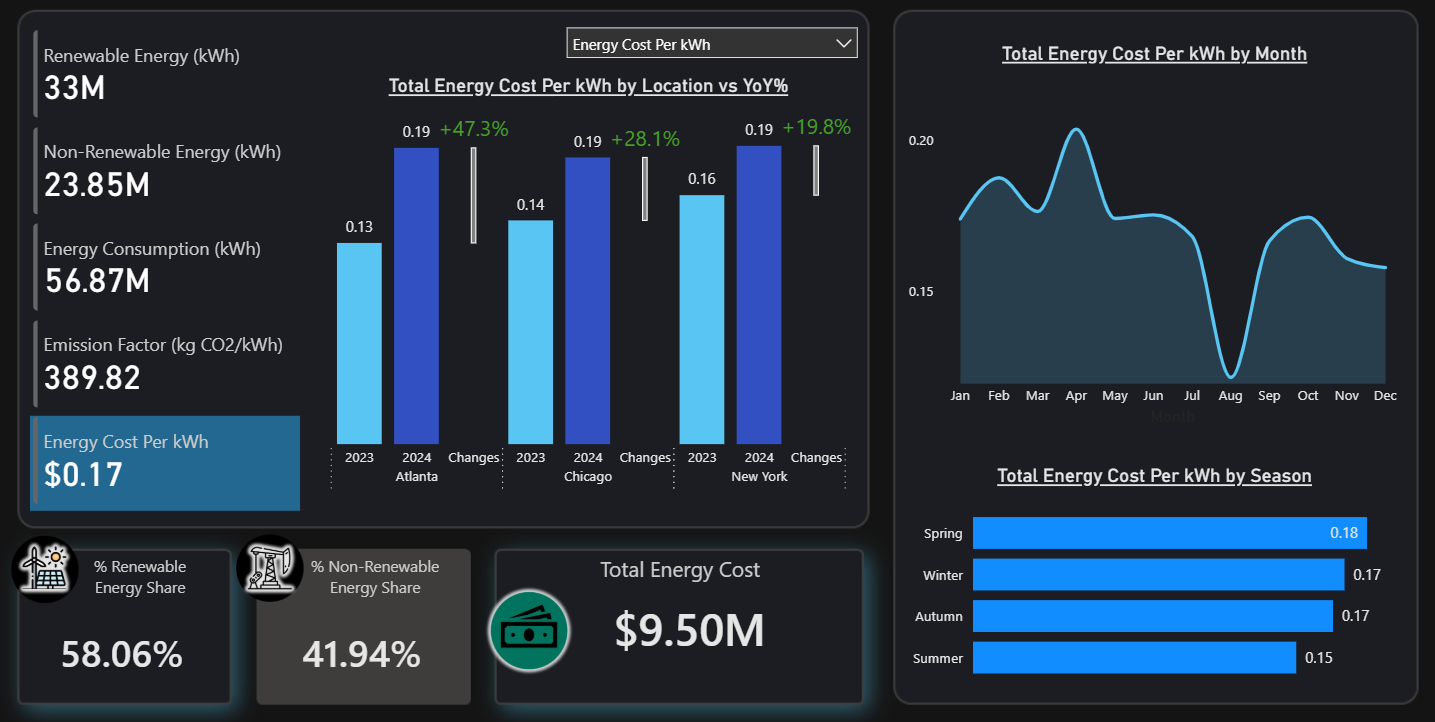

This screenshot's page, from the dashboard's own definition file:
{"tool":"powerbi","page":{"name":"Page 1","canvas":[1280,720],"ordinal":0},"visuals":[{"type":"shape","box":[26.9,97,240,85],"z":0},{"type":"shape","box":[27,184,240.5,84.7],"z":1000},{"type":"shape","box":[27,270.8,240.5,84.7],"z":2000},{"type":"shape","box":[27,357.5,240.5,84.7],"z":3000},{"type":"shape","box":[27,444.2,240.5,84.7],"z":4000},{"type":"cardVisual","fields":{"Data":["DAX Table.Renewable Energy (kwh)","DAX Table.Total Non-Renewable Energy (kwh)","DAX Table.Total Energy Consumption (kwh)","DAX Table.Emission Factor (kg CO2/kWh)","DAX Table.Energy Cost Per kWh"]},"box":[17.2,88.3,266.3,449.1],"z":5000},{"type":"clusteredColumnChart","fields":{"Category":["Data.Location","Year Table.Year"],"Y":["Year Table.YoY Change"]},"box":[274.8,139.9,498.2,380.4],"z":6000},{"type":"slicer","fields":{"Values":["Switchable Measures.Switchable Measures"]},"box":[494.5,88.3,279.8,46.6],"z":7000},{"type":"cardVisual","fields":{"Data":["DAX Table.% Renewable Energy Share"]},"box":[27.3,612.7,164.5,82.7],"z":8000},{"type":"textbox","box":[57.7,563.2,133.7,49.1],"z":9000},{"type":"textbox","box":[267.5,563.2,133.7,49.1],"z":10000},{"type":"textbox","box":[484.7,563.2,242.9,45.4],"z":11000},{"type":"cardVisual","fields":{"Data":["DAX Table.Energy Cost (USD)"]},"box":[492,591.4,244.2,82.2],"z":12000},{"type":"cardVisual","fields":{"Data":["DAX Table.% Non-Renewable Energy Share"]},"box":[240.9,612.7,164.5,82.7],"z":13000},{"type":"image","box":[10,550.9,60,60],"z":14000},{"type":"image","box":[210,550,60,60],"z":15000},{"type":"image","box":[430.9,595,80.9,80],"z":16000},{"type":"lineChart","fields":{"Category":["Calendar.Month"],"Y":["Switchable Measures.Group Measures"]},"box":[803.7,111.7,449.1,347.2],"z":17000},{"type":"barChart","fields":{"Category":["Calendar.Season"],"Y":["Switchable Measures.Group Measures"]},"box":[803.7,487.1,449.1,207.4],"z":18000},{"type":"textbox","box":[17.2,12.3,474.8,66.3],"z":19000},{"type":"card","fields":{"Values":["DAX Table.Energy Cost Summary"]},"box":[575.5,12.3,677.3,62.6],"z":21000}]}

Visuals, with their boxes on the page's 1280x720 design canvas (x1, y1, x2, y2). These are canvas units, not pixel positions in the 1435x722 screenshot, which may show the page scaled, cropped or inside an application window:
shape: select_region(27, 97, 267, 182)
shape: select_region(27, 184, 268, 269)
shape: select_region(27, 271, 268, 356)
shape: select_region(27, 358, 268, 442)
shape: select_region(27, 444, 268, 529)
cardVisual - DAX Table.Renewable Energy (kwh) x DAX Table.Total Non-Renewable Energy (kwh): select_region(17, 88, 284, 537)
clusteredColumnChart - Data.Location x Year Table.Year: select_region(275, 140, 773, 520)
slicer - Switchable Measures.Switchable Measures: select_region(494, 88, 774, 135)
cardVisual - DAX Table.% Renewable Energy Share: select_region(27, 613, 192, 695)
textbox: select_region(58, 563, 191, 612)
textbox: select_region(268, 563, 401, 612)
textbox: select_region(485, 563, 728, 609)
cardVisual - DAX Table.Energy Cost (USD): select_region(492, 591, 736, 674)
cardVisual - DAX Table.% Non-Renewable Energy Share: select_region(241, 613, 405, 695)
image: select_region(10, 551, 70, 611)
image: select_region(210, 550, 270, 610)
image: select_region(431, 595, 512, 675)
lineChart - Calendar.Month x Switchable Measures.Group Measures: select_region(804, 112, 1253, 459)
barChart - Calendar.Season x Switchable Measures.Group Measures: select_region(804, 487, 1253, 694)
textbox: select_region(17, 12, 492, 79)
card - DAX Table.Energy Cost Summary: select_region(576, 12, 1253, 75)
